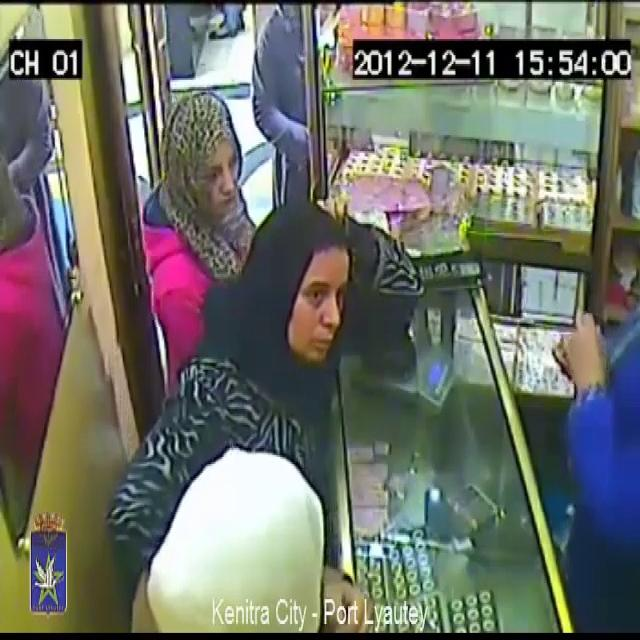normal: (124, 405, 340, 640), (552, 217, 640, 612), (130, 40, 242, 305), (213, 162, 344, 378)
